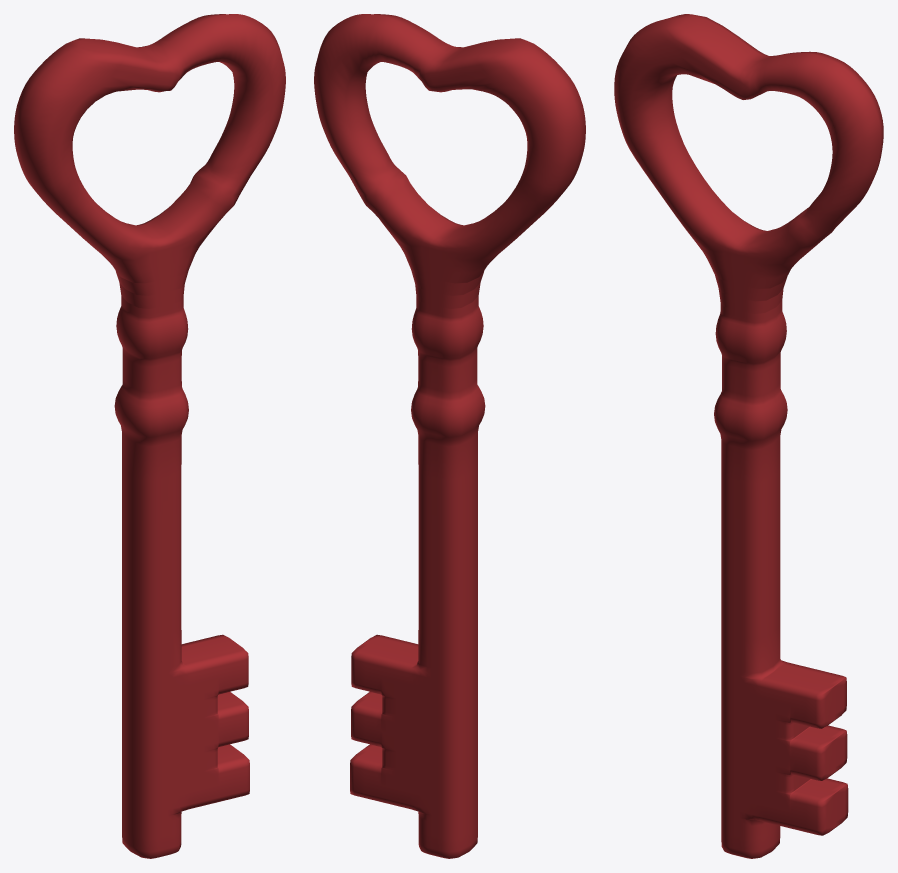
File: red.fbx
3 views of the same model, side by side, from view 1: azimuth 30°, elevation 25°; view 2: azimuth 150°, elevation 25°; view 3: azimuth 330°, elevation 25° (orthographic).
Parts seen in each view (by area): view 1: key_red; view 2: key_red; view 3: key_red.
Part boxes in pixels (<box>): key_red: <box>14,14,285,858</box>; key_red: <box>314,14,585,858</box>; key_red: <box>614,14,883,858</box>.
Bounding box in the file's own units: 35.34 × 106 × 7.99.
